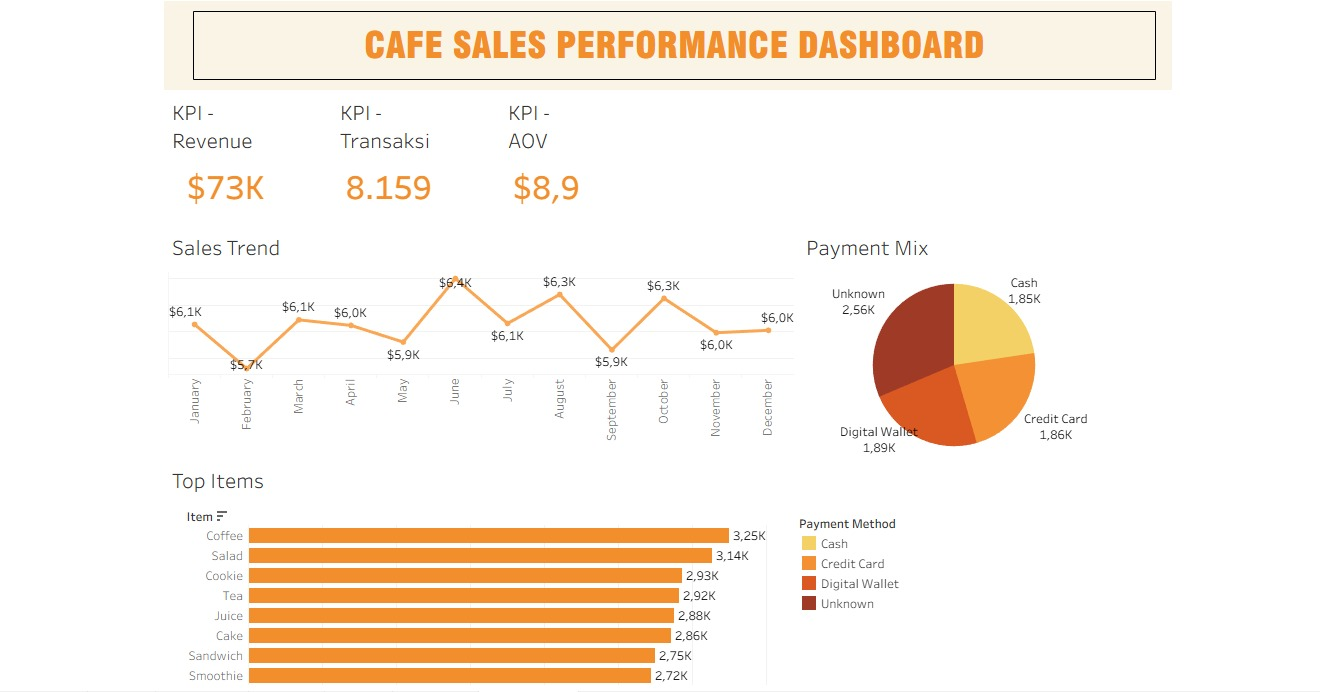

This screenshot's page, from the dashboard's own definition file:
{"tool":"tableau","page":{"name":"Dashboard 2","canvas":[1024,768],"ordinal":0},"visuals":[{"type":"text","box":[37.1,17.9,962.6,69.1]},{"type":"worksheet","title":"KPI - Revenue","mark":"Automatic","box":[8,96.8,168,123]},{"type":"worksheet","title":"KPI - Transaksi","mark":"Automatic","box":[176,96.8,168,123]},{"type":"worksheet","title":"KPI - AOV","mark":"Automatic","box":[344,96.8,672,123]},{"type":"worksheet","title":"Sales Trend","mark":"Automatic","rows":["total_spent"],"cols":["transaction_date"],"box":[8,232,633.9,233]},{"type":"worksheet","title":"Payment Mix","mark":"Pie","box":[641.9,232,374.1,237]},{"type":"worksheet","title":"Top Items","mark":"Automatic","rows":["item"],"cols":["quantity"],"box":[8,465,633.9,231]},{"type":"legend","title":"Payment Mix","param":"[federated.1c6tpje0hr4r6h15gvdeh073acm1].[none:payment_method:nk]","box":[643,522,269,121]}]}

Visuals, with their boxes on the page's 1024x768 design canvas (x1, y1, x2, y2). These are canvas units, not pixel positions in the 1320x692 screenshot, which may show the page scaled, cropped or inside an application window:
text: bbox(37, 18, 1000, 87)
"KPI - Revenue" worksheet: bbox(8, 97, 176, 220)
"KPI - Transaksi" worksheet: bbox(176, 97, 344, 220)
"KPI - AOV" worksheet: bbox(344, 97, 1016, 220)
"Sales Trend" worksheet: bbox(8, 232, 642, 465)
"Payment Mix" worksheet (Pie marks): bbox(642, 232, 1016, 469)
"Top Items" worksheet: bbox(8, 465, 642, 696)
"Payment Mix" legend: bbox(643, 522, 912, 643)
